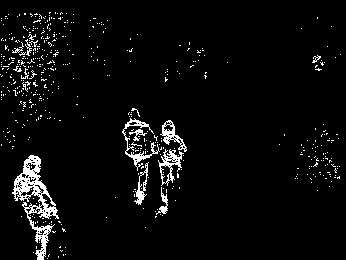person: (13, 154, 61, 260), (124, 106, 157, 206), (156, 118, 186, 217)
